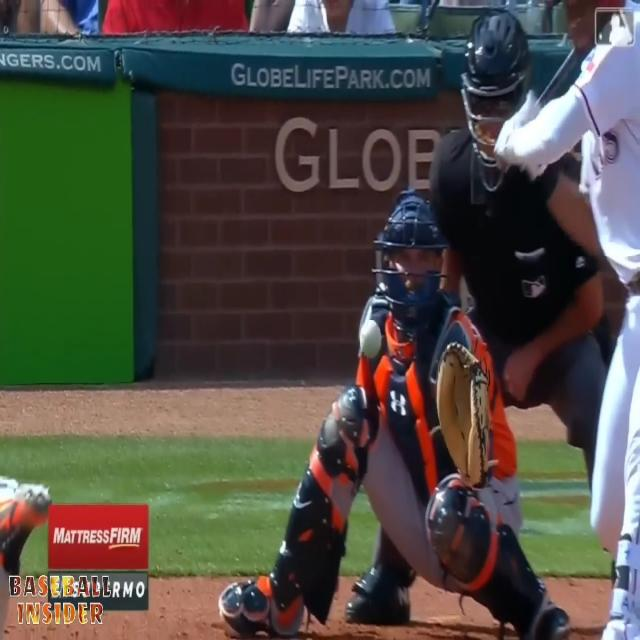baseball: (360, 320, 381, 358)
